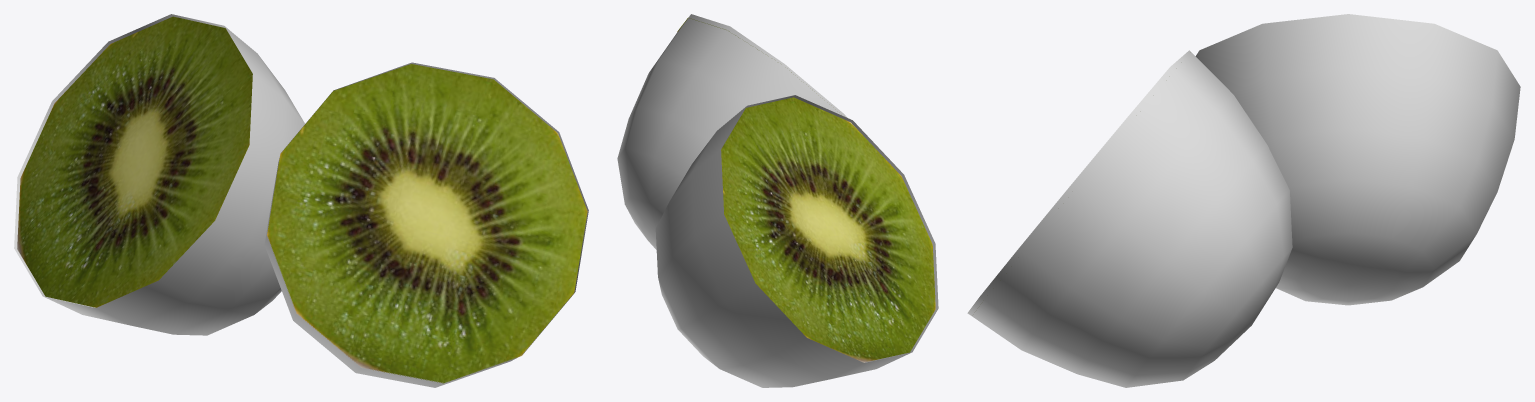
File: kiwi.FBX
3 views of the same model, side by side, from view 1: azimuth 30°, elevation 25°; view 2: azimuth 150°, elevation 25°; view 3: azimuth 270°, elevation 25° (orthographic). The views are drawn at different scales.
Parts seen in each view (by area): view 1: kiwi_txt, kiwi_base; view 2: kiwi_base, kiwi_txt; view 3: kiwi_base.
Part boxes in pixels (bbox=[...]): kiwi_txt: bbox=[17, 16, 587, 383]; kiwi_base: bbox=[14, 14, 588, 387]; kiwi_base: bbox=[617, 14, 938, 387]; kiwi_txt: bbox=[677, 17, 935, 362]; kiwi_base: bbox=[967, 14, 1520, 387].
Bounding box in the file's own units: 87.33 × 61.5 × 99.
